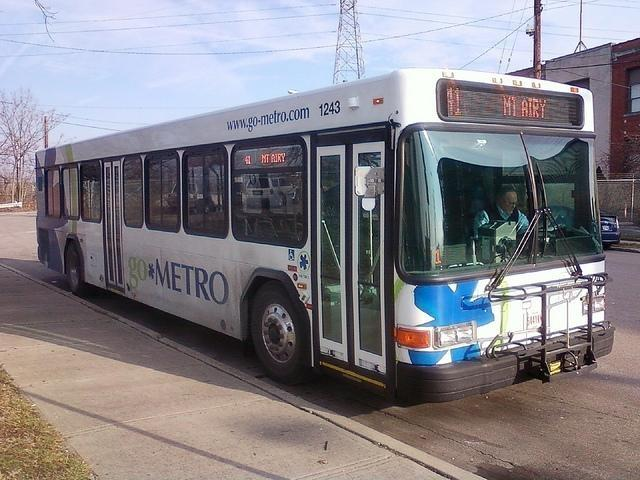bus: (31, 66, 619, 408)
car: (524, 204, 622, 250)
